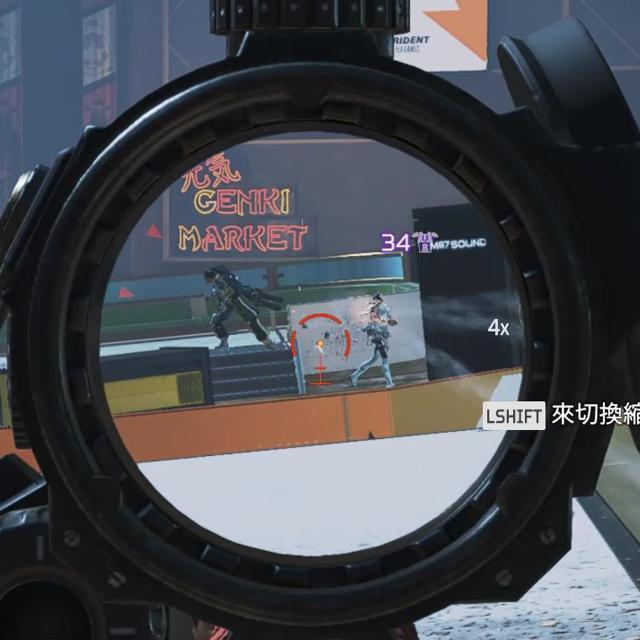avatar: (202, 263, 261, 351), (361, 294, 399, 388)
